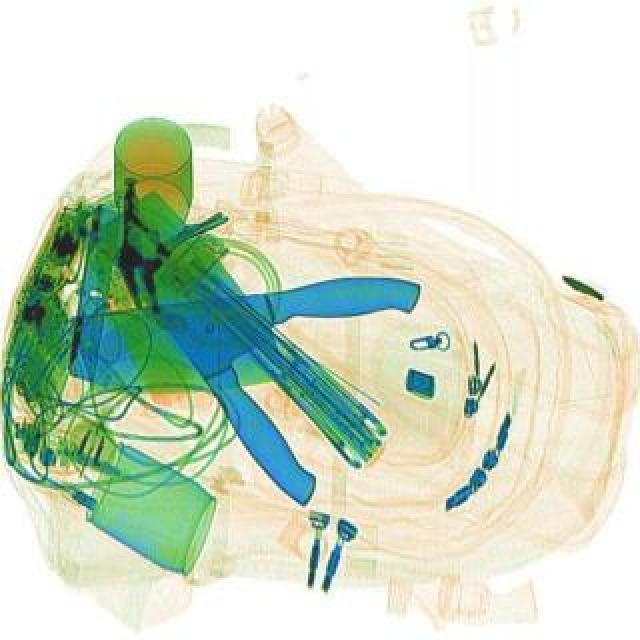knife: (82, 188, 370, 514), (74, 274, 426, 404)
